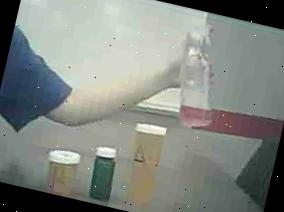Bottle A: (116, 117, 176, 212)
Bottle B: (34, 140, 84, 199)
Bottle C: (82, 139, 127, 208)
hazard: (161, 16, 255, 136)
